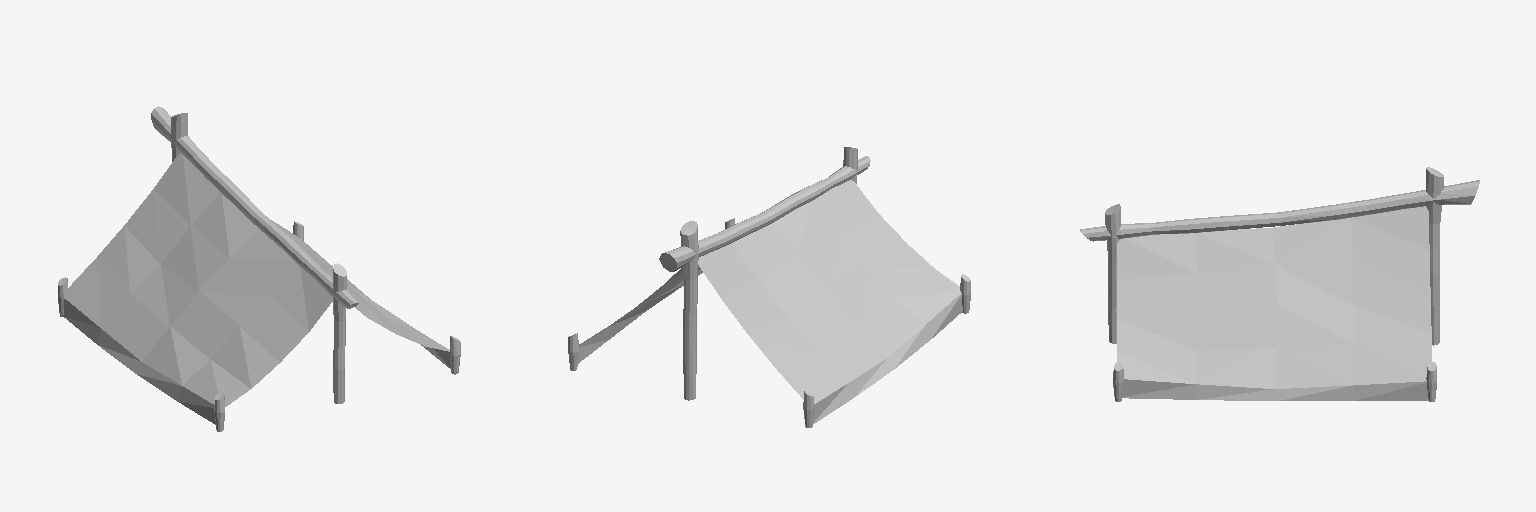
Rendered from SmallTent.obj.
3 renders of one model, left to right at view 1: azimuth 30°, elevation 25°; view 2: azimuth 150°, elevation 25°; view 3: azimuth 270°, elevation 25°, orthographic.
Parts seen in each view (by area): view 1: CivilianTent:polySurface30; view 2: CivilianTent:polySurface30; view 3: CivilianTent:polySurface30.
Part boxes in pixels (bbox=[...]): CivilianTent:polySurface30: bbox=[58, 106, 460, 431]; CivilianTent:polySurface30: bbox=[568, 147, 970, 427]; CivilianTent:polySurface30: bbox=[1080, 167, 1479, 401].
Bounding box in the file's own units: 320 × 219 × 450.